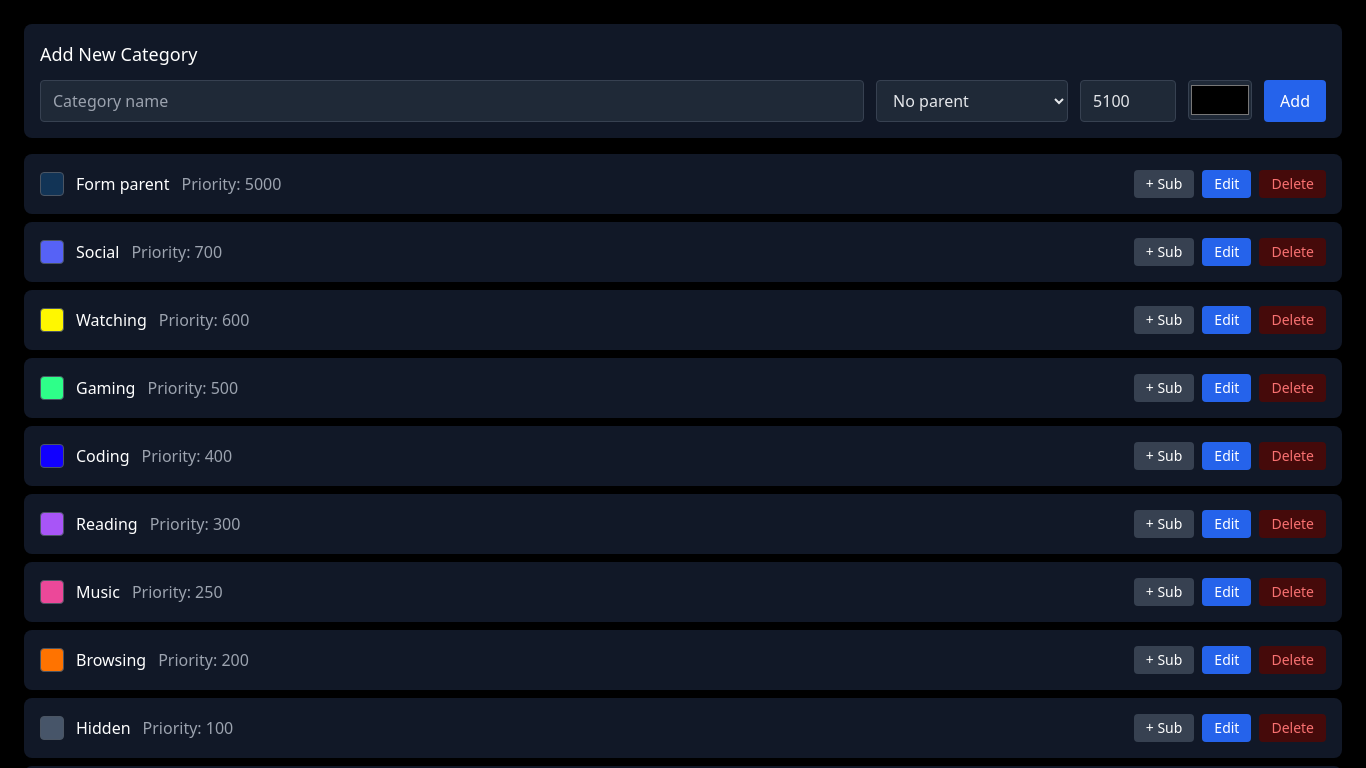
Test: adds a subcategory from the new category form
The width and height of the screenshot is (1366, 768).
Select "Form parent" in the dropdown named "Form parent" at {"x": 972, "y": 101}, box [876,80,1068,122]
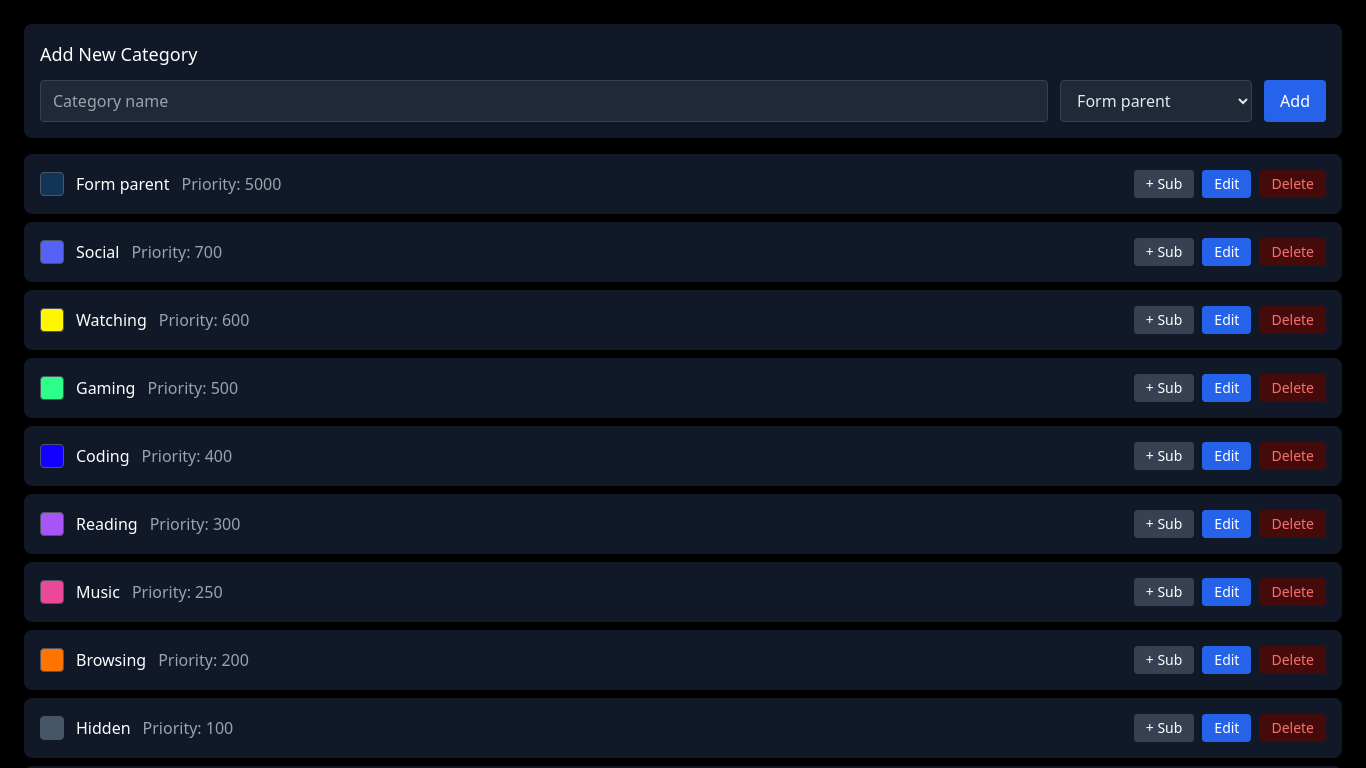
Type "Form child" into the field with placeholder "Category name" at {"x": 544, "y": 101}, box [40,80,1048,122]
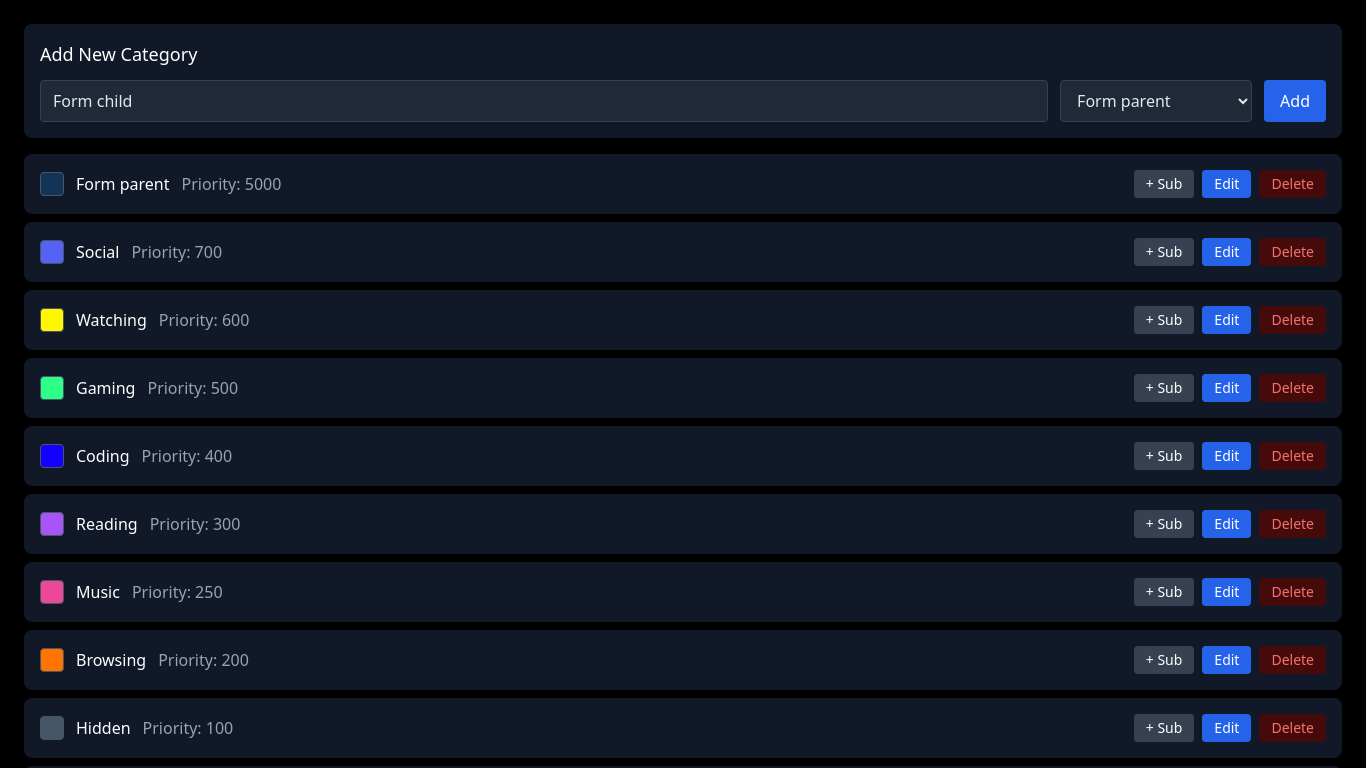
Click the button "Add" at {"x": 1295, "y": 101}, box [1264,80,1326,122]
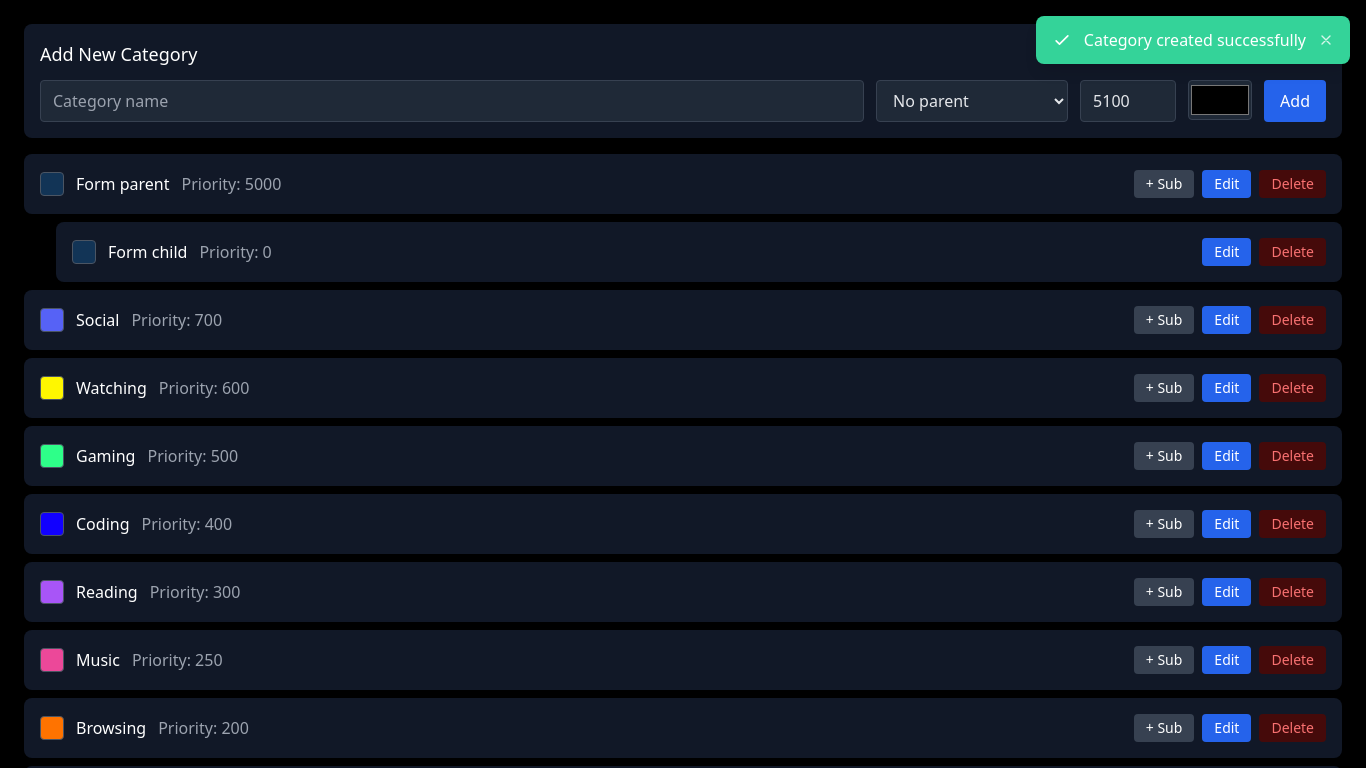
Check: the text "Form child" is shown, box [108,241,187,263]
